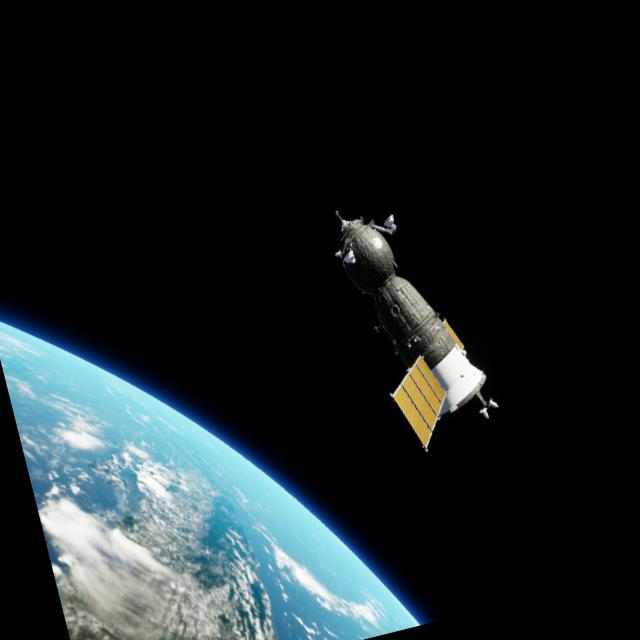Satellites revolving around earth: (322, 181, 508, 464)
